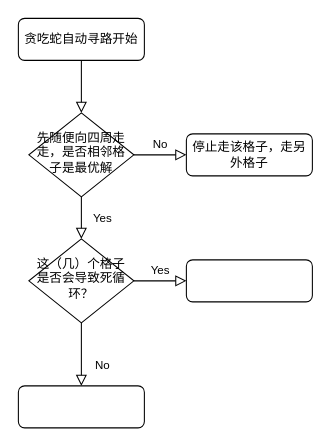
Some shapes in this 331 by 446 pixel diagram are drawn without their labels. The centre of each missing label's shape, as x and y in pixels:
"将这几个格子加入队列，打乱后输出" belongs at point (248, 280).
"走这个格子" belongs at point (80, 406).
